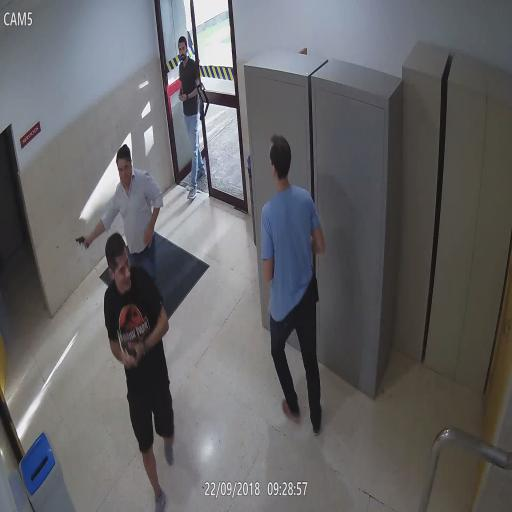Handgun: (120, 341, 138, 364), (74, 234, 89, 251), (178, 86, 184, 104)
